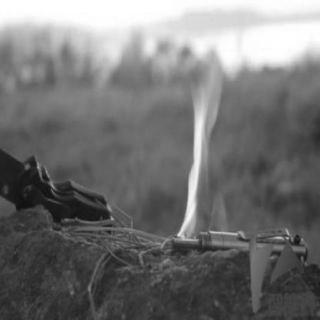Fire: (168, 57, 230, 247)
